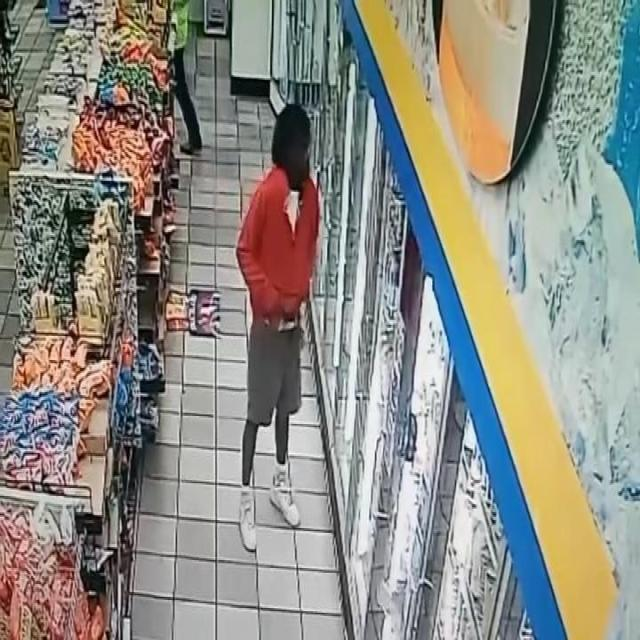Shoplifting: (234, 56, 350, 572)
